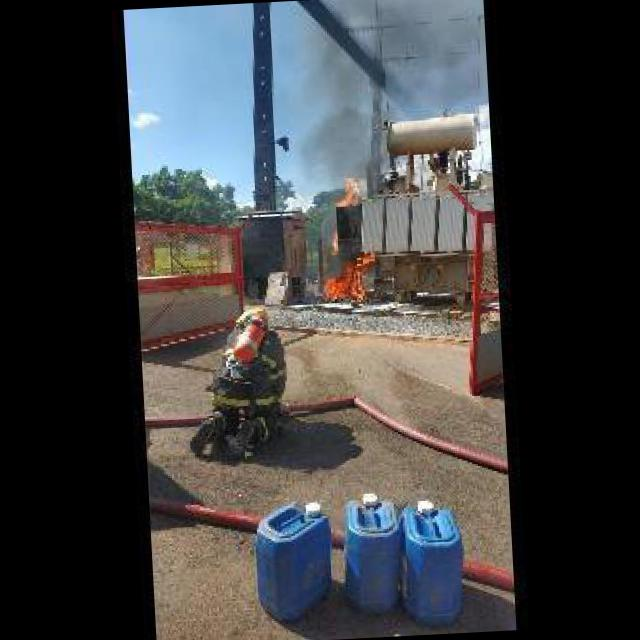Fire: (319, 255, 379, 298), (334, 174, 364, 209), (330, 231, 340, 253)
Smoke: (291, 0, 494, 180)
